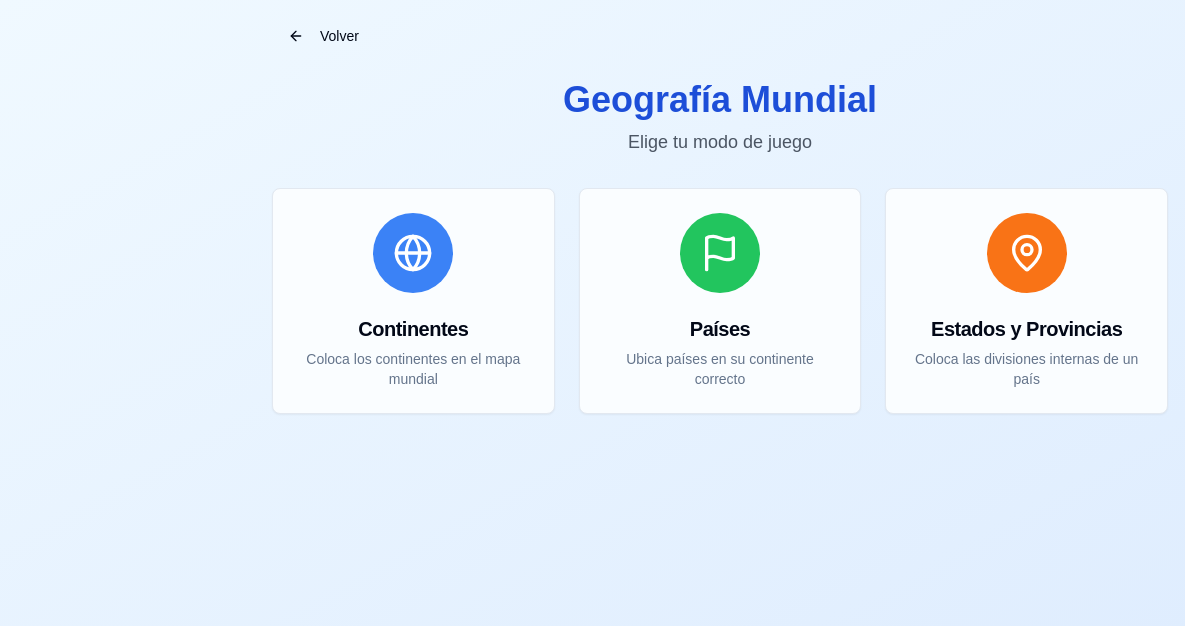
ContinentsScreen › Navigation Tests › should navigate between mode and difficulty selectors
// Go to difficulty selector
Click the text "Continentes": coordinates (413, 329) [358,318,468,340]
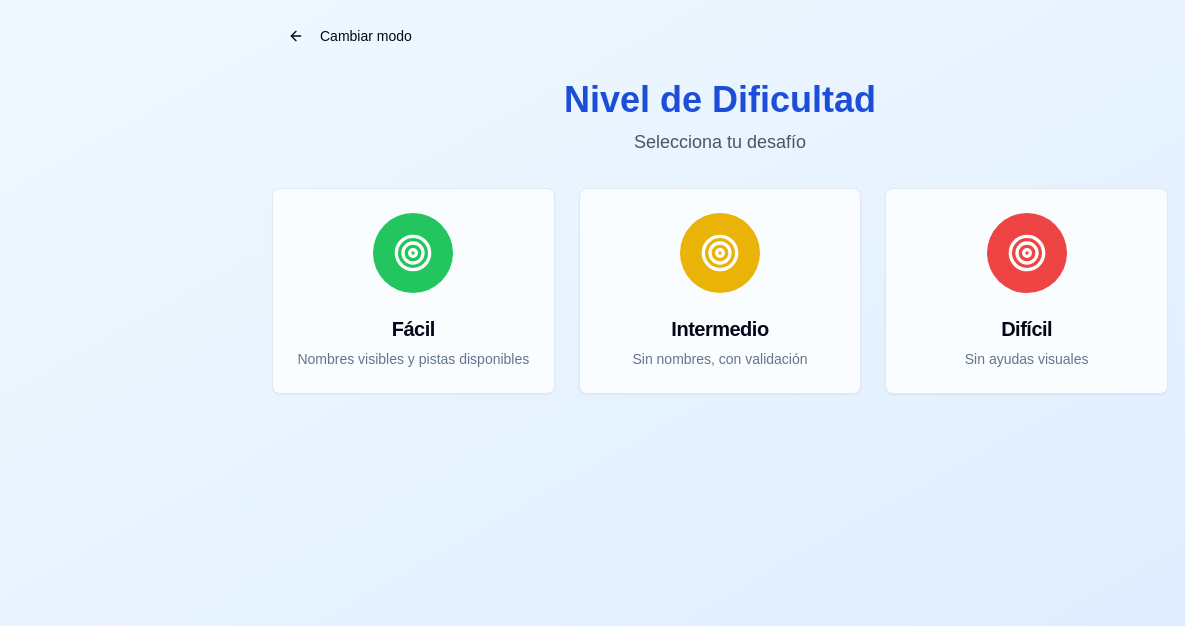
Now the heading "Nivel de Dificultad" is shown, box [564,79,876,120]
// Go back to mode selector
Click the button "Cambiar modo": coordinates (350, 36) [272,16,428,56]
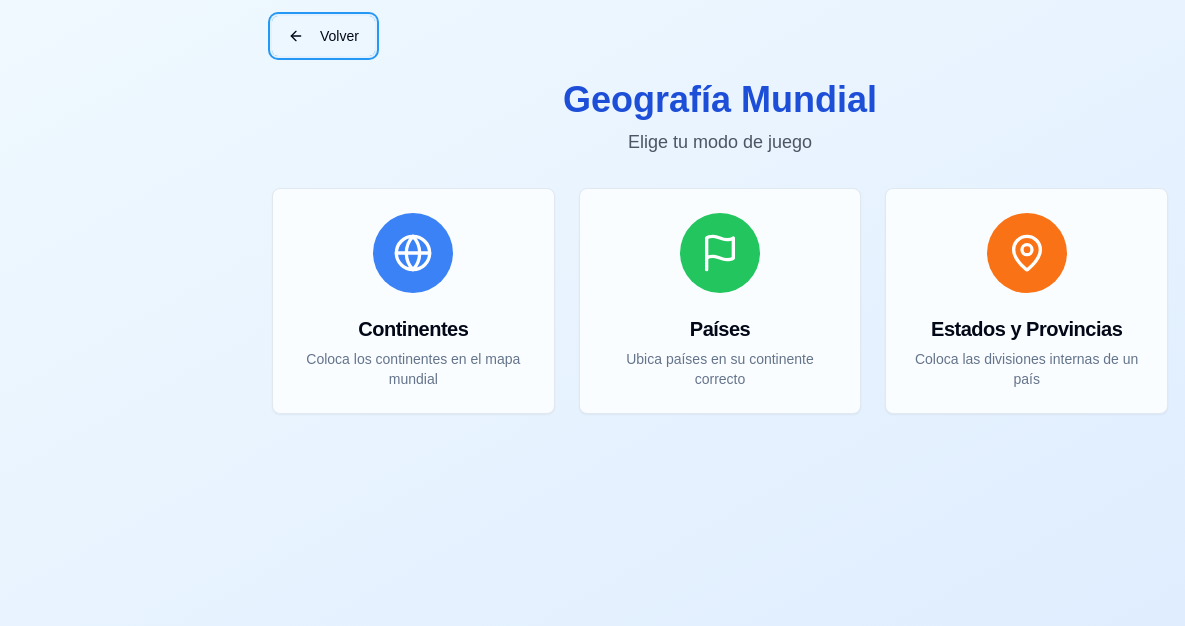
Now the text "Elige tu modo de juego" is shown, box [628,132,812,152]
